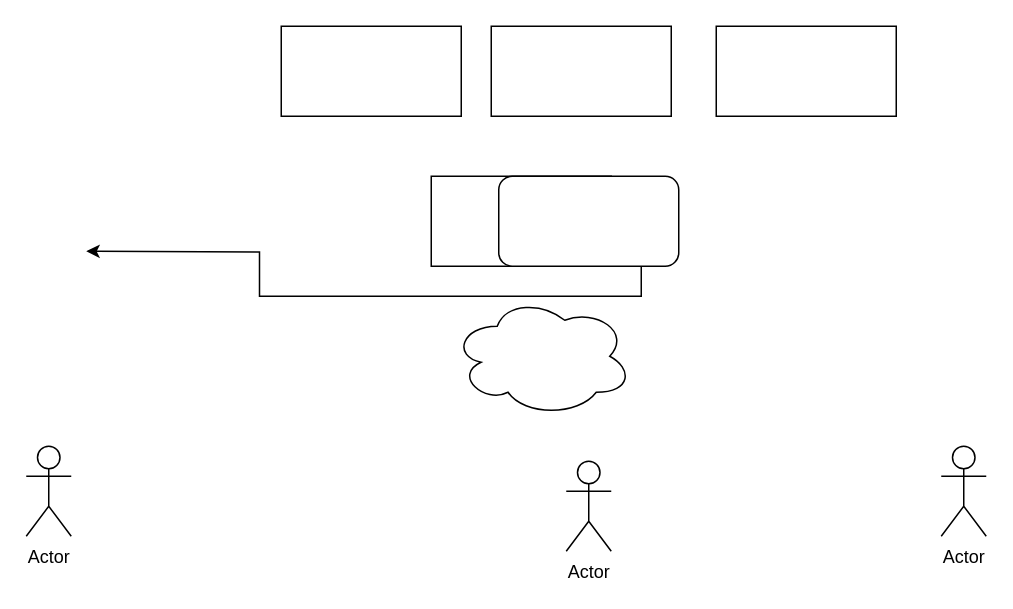
Some shapes in this 1013 by 609 pixel diagram are drawn without their labels. Each missing label, with the centre of its shape:
"Hyperviser-VMware/Aws/Microsoft" goes at pixel 588 220.
"Internet" goes at pixel 541 355.
